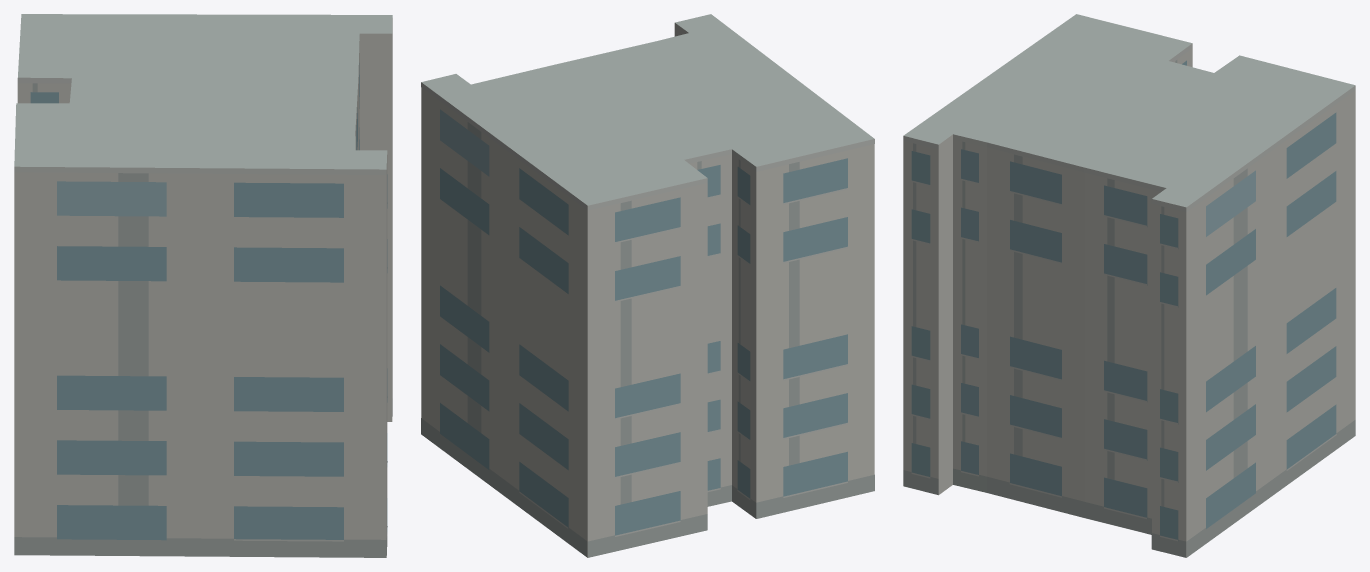
The model's file is survey-upis-32785777.glb.
3 renders of one model, left to right at view 1: azimuth 30°, elevation 25°; view 2: azimuth 150°, elevation 25°; view 3: azimuth 270°, elevation 25°, orthographic. The views are drawn at different scales.
Parts seen in each view (by area): view 1: survey-upis-32785777.tmp; view 2: survey-upis-32785777.tmp; view 3: survey-upis-32785777.tmp.
Boxes of the visible parts, <box> form: survey-upis-32785777.tmp: <box>14,14,392,557</box>; survey-upis-32785777.tmp: <box>421,14,874,557</box>; survey-upis-32785777.tmp: <box>903,14,1355,557</box>.
Size of the model in its own units: 20.05 by 16.93 by 19.81.
